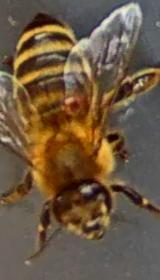varroa_mite: (56, 95, 87, 116)
